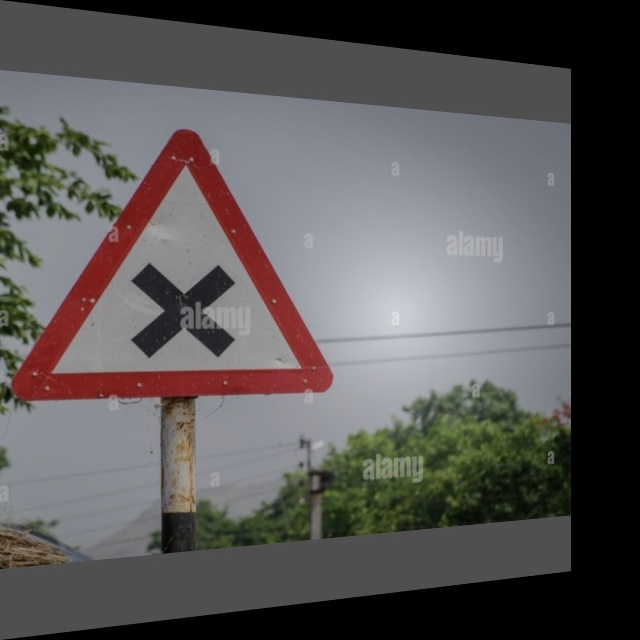Cross_Road: (34, 131, 332, 399)
